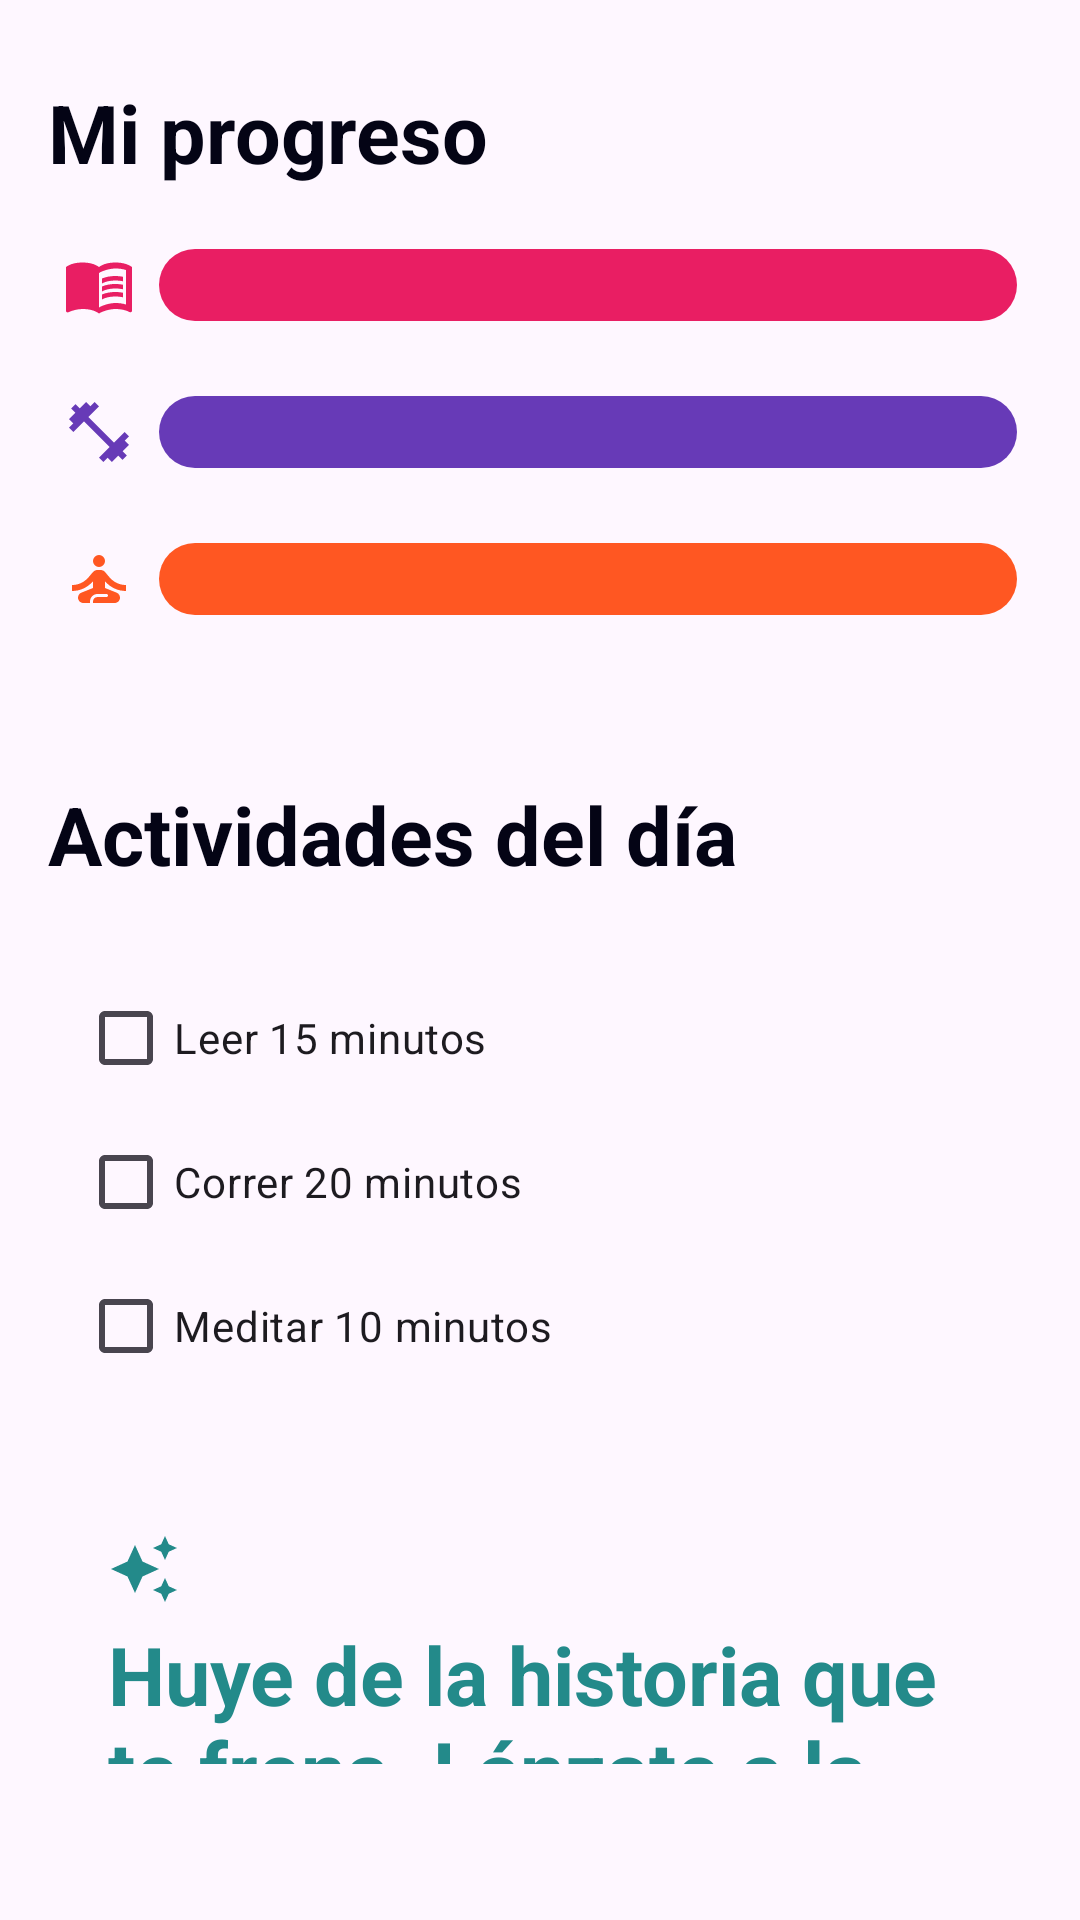

Icons on this 1080×1920 Android screen, each with the point to tap as (x,y):
auto awesome: (144,1569)
book: (99,288)
fitness center: (99,432)
self improvement: (99,579)
